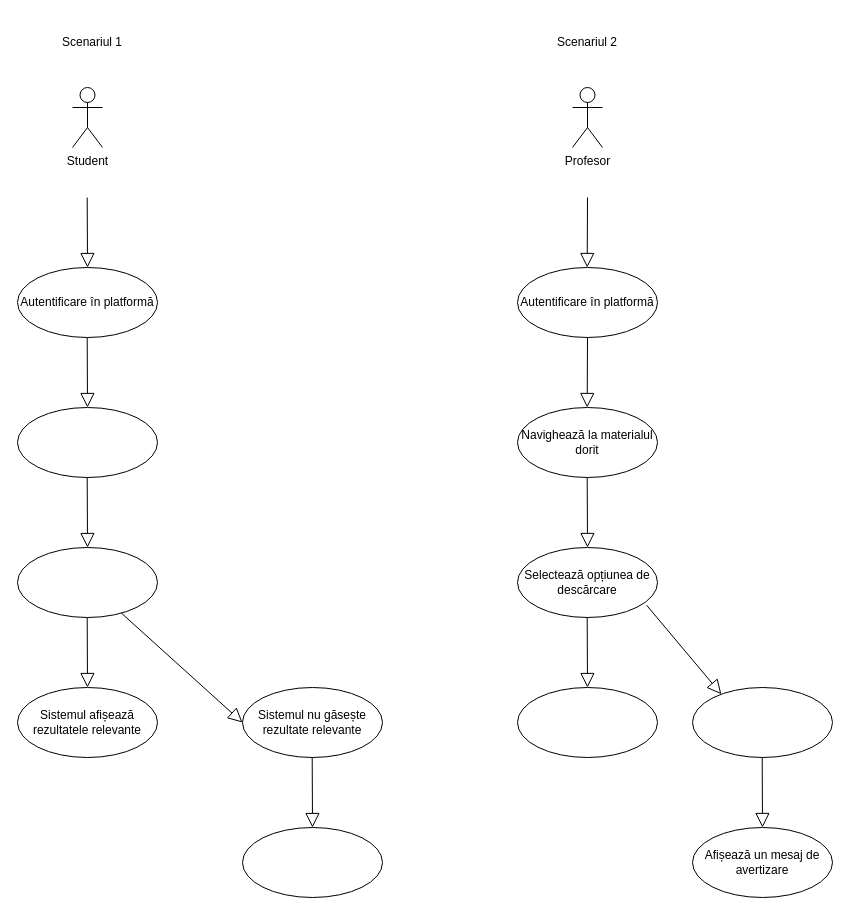
The diagram is 850 pixels wide and 915 high, and some of its shapes have lost their labels. Here are the shapes that lost their labels. From the top down, the centre of each, then its label:
(87,442): Căutare resurse educaționale
(87,582): Introduce un cuvânt-cheie
(587,722): Descărcare material educațional
(762,722): Sistemul detectează spațiu insuficient pe dispozitiv
(312,862): Afișează un mesaj de eroare
